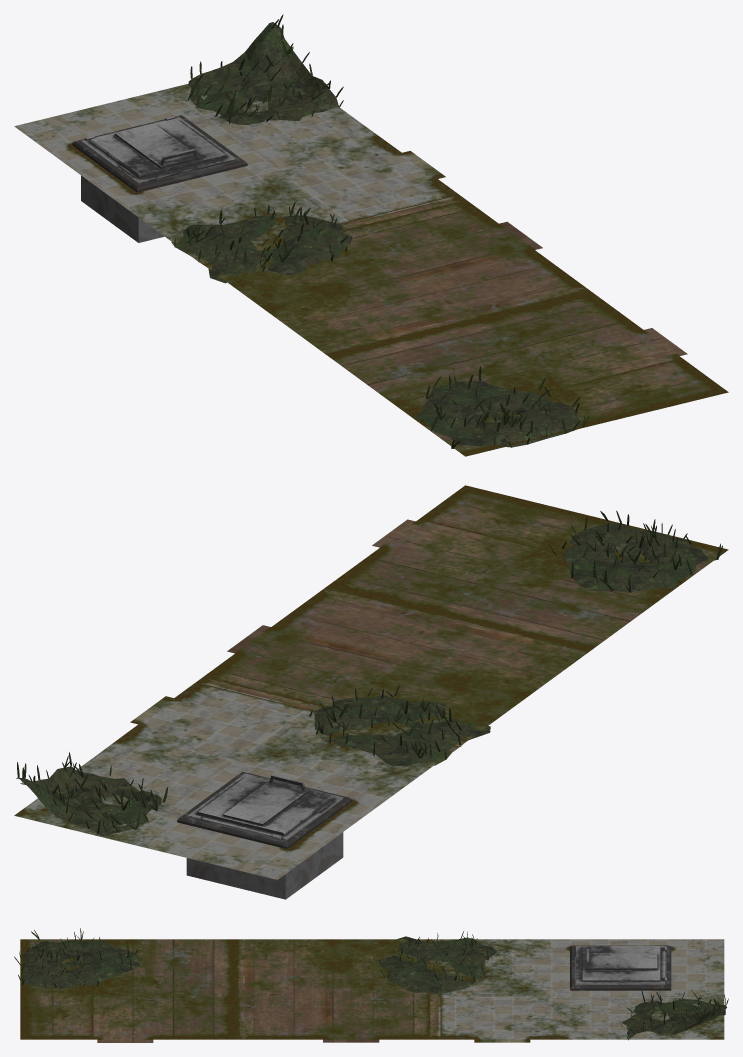
The model's file is Support House Floor.fbx.
The picture shows the model from 3 angles, top to bottom: view 1: azimuth 30°, elevation 25°; view 2: azimuth 150°, elevation 25°; view 3: azimuth 270°, elevation 25°; orthographic projection. The views are drawn at different scales.
Parts seen in each view (by area): view 1: Casa de Apoio Chao, Cube.008, Cube.015, Cube.009, Alçapão; view 2: Casa de Apoio Chao, Cube.015, Cube.009, Alçapão, Cube.008; view 3: Casa de Apoio Chao, Cube.015, Cube.009, Alçapão, Cube.008.
Boxes of the visible parts, bbox=[...] form: Casa de Apoio Chao: bbox=[14, 83, 728, 456]; Cube.008: bbox=[188, 22, 338, 124]; Cube.015: bbox=[413, 381, 580, 448]; Cube.009: bbox=[171, 215, 352, 283]; Alçapão: bbox=[81, 116, 236, 184]; Casa de Apoio Chao: bbox=[14, 485, 728, 899]; Cube.015: bbox=[562, 522, 716, 592]; Cube.009: bbox=[314, 695, 490, 766]; Alçapão: bbox=[188, 773, 343, 840]; Cube.008: bbox=[16, 766, 161, 836]; Casa de Apoio Chao: bbox=[20, 939, 724, 1042]; Cube.015: bbox=[21, 940, 140, 988]; Cube.009: bbox=[378, 936, 497, 994]; Alçapão: bbox=[576, 946, 666, 984]; Cube.008: bbox=[621, 999, 726, 1038].
Bounding box in the file's own units: 500 × 179 × 1417.
